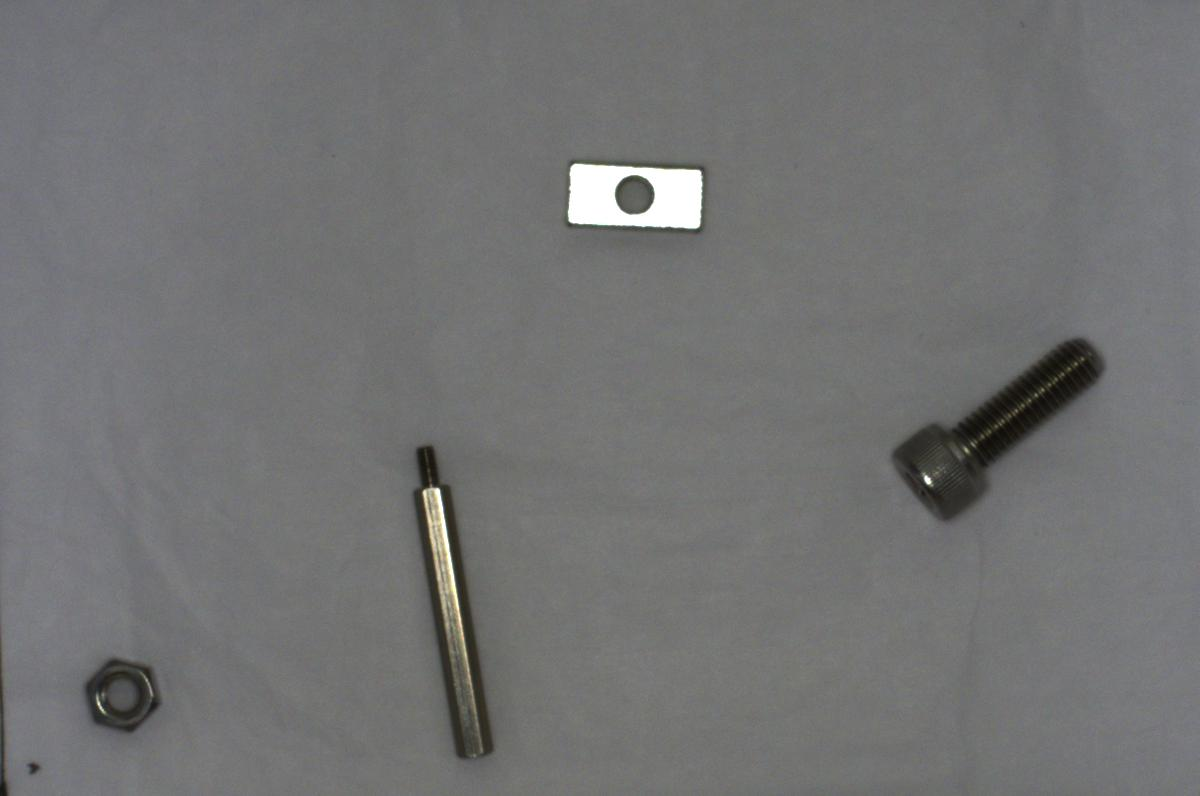Hexagon nut: (72, 650, 162, 738)
Hexagon screw: (872, 314, 1114, 532)
Hexagonal steel column: (398, 434, 512, 769)
Rectangular nut: (550, 150, 714, 241)
